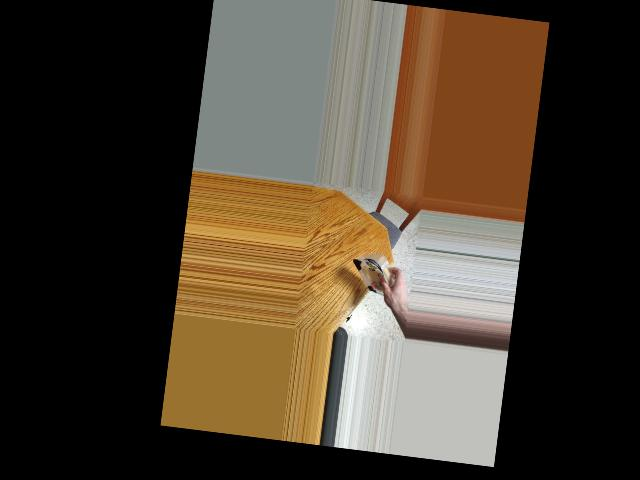cheese: (350, 246, 395, 309)
